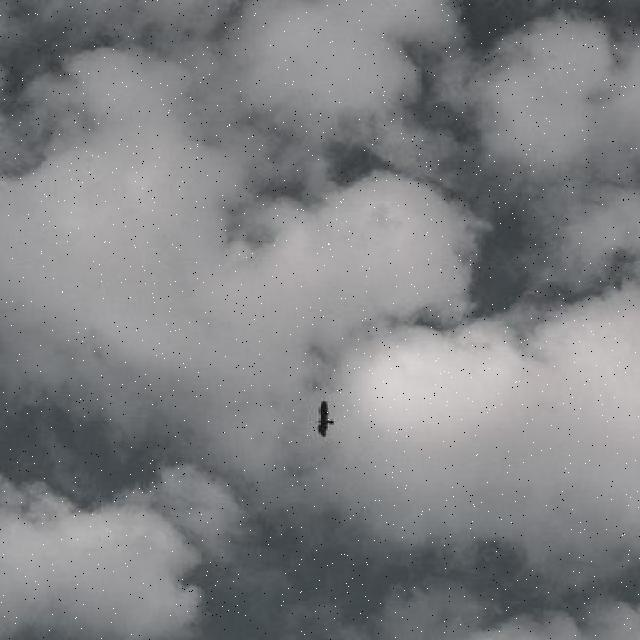bird: (300, 380, 354, 448)
